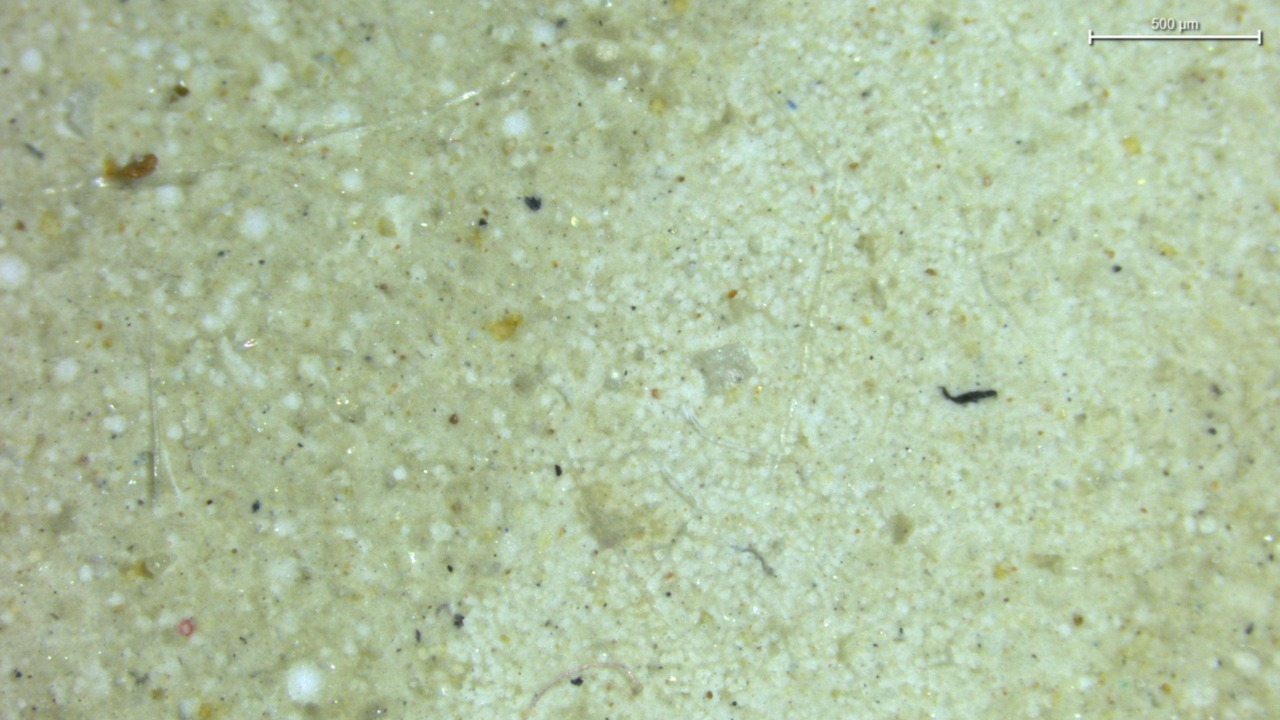microplastic_fragment: (692, 344, 756, 394)
